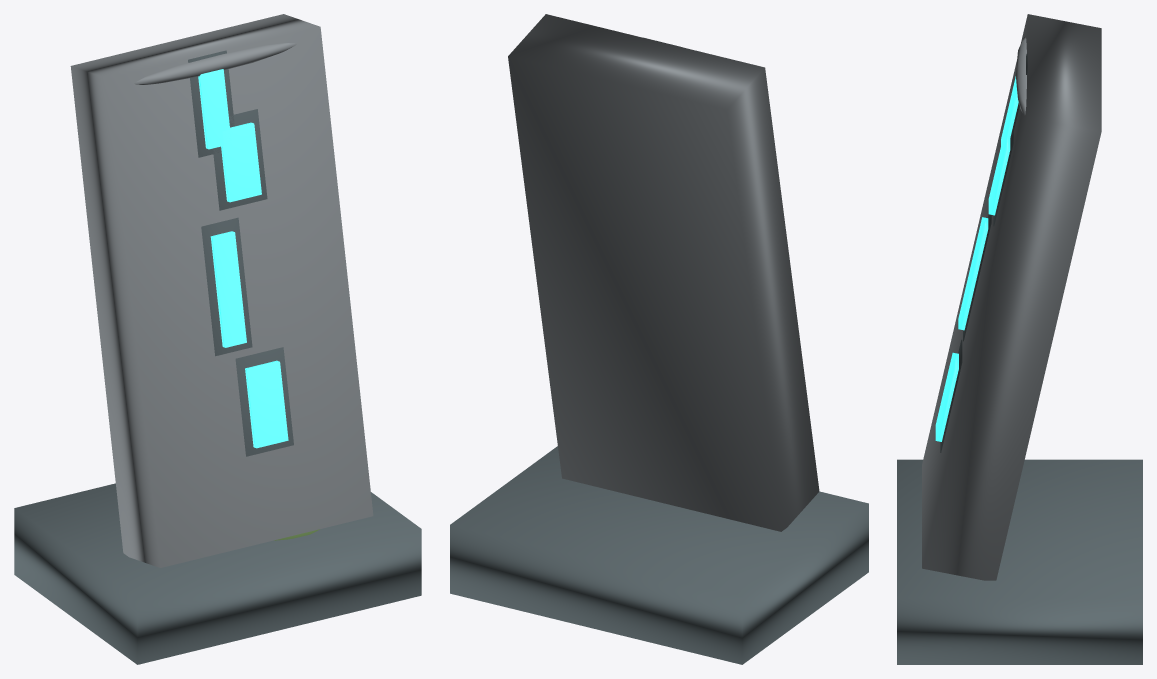
The model's file is 3D模型 props_rune_stone.glb.
3 views of the same model, side by side, from view 1: azimuth 30°, elevation 25°; view 2: azimuth 150°, elevation 25°; view 3: azimuth 270°, elevation 25° (orthographic). The views are drawn at different scales.
Parts seen in each view (by area): view 1: part_slab, part_mound, part_rune_0, part_rune_1, part_rune_2, part_groove_1, part_slab_cap, part_groove_0, part_rune_3, part_groove_2, part_groove_3; view 2: part_slab, part_mound; view 3: part_slab, part_mound, part_rune_1, part_rune_0, part_rune_2, part_slab_cap, part_rune_3.
Boxes of the visible parts, <box> form: part_slab: <box>70,14,373,567</box>; part_mound: <box>14,483,421,664</box>; part_rune_0: <box>245,360,288,448</box>; part_rune_1: <box>210,231,246,347</box>; part_rune_2: <box>221,122,261,202</box>; part_groove_1: <box>201,217,252,356</box>; part_slab_cap: <box>134,43,296,84</box>; part_groove_0: <box>235,347,293,456</box>; part_rune_3: <box>198,69,230,149</box>; part_groove_2: <box>213,109,267,210</box>; part_groove_3: <box>188,50,234,157</box>; part_slab: <box>508,14,819,531</box>; part_mound: <box>450,446,868,664</box>; part_slab: <box>922,14,1101,580</box>; part_mound: <box>897,459,1142,664</box>; part_rune_1: <box>958,217,988,330</box>; part_rune_0: <box>935,352,958,441</box>; part_rune_2: <box>988,134,1010,215</box>; part_slab_cap: <box>1015,36,1026,115</box>; part_rune_3: <box>1001,76,1018,145</box>.
Size of the model in its own units: 0.8 by 1.45 by 0.6.
